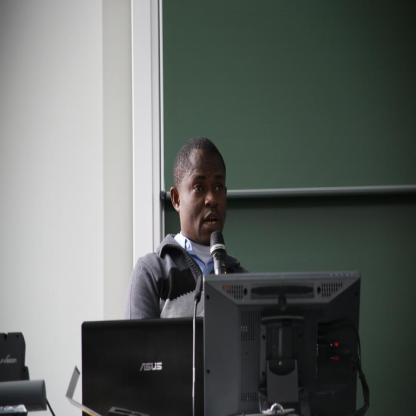board: (80, 318, 204, 414)
